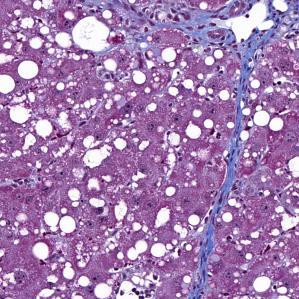fibrosis: (124, 0, 230, 51), (220, 110, 248, 196), (192, 218, 216, 298)
